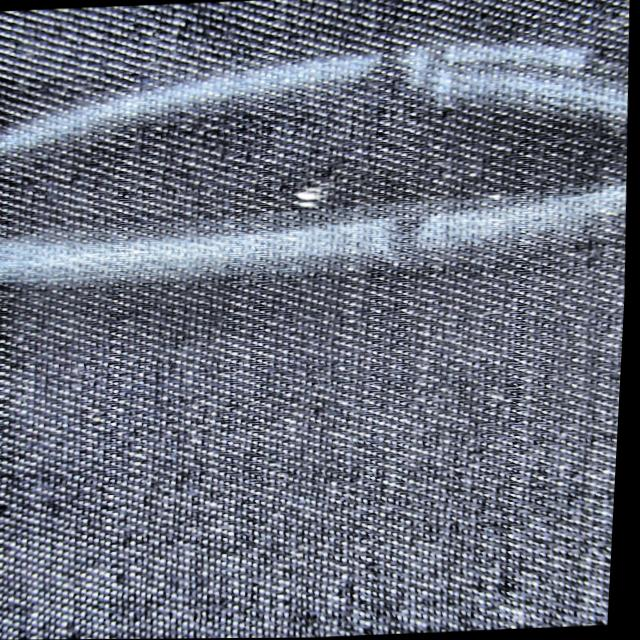Hole: (274, 182, 347, 212)
